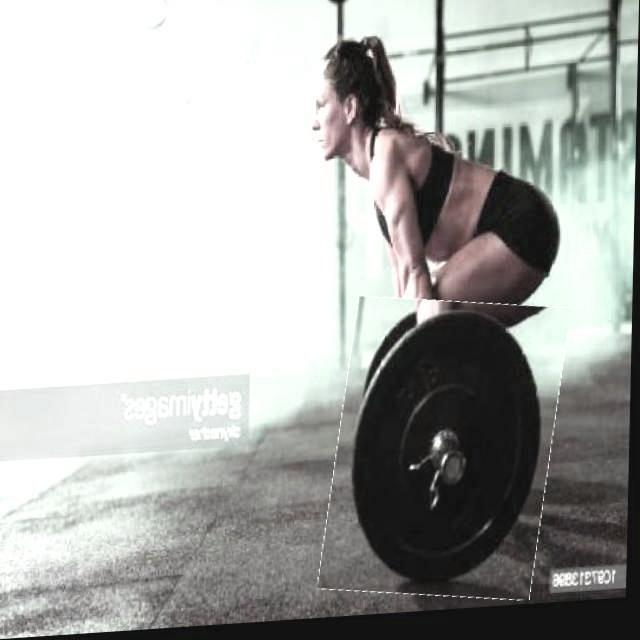barbell: (329, 297, 565, 614)
